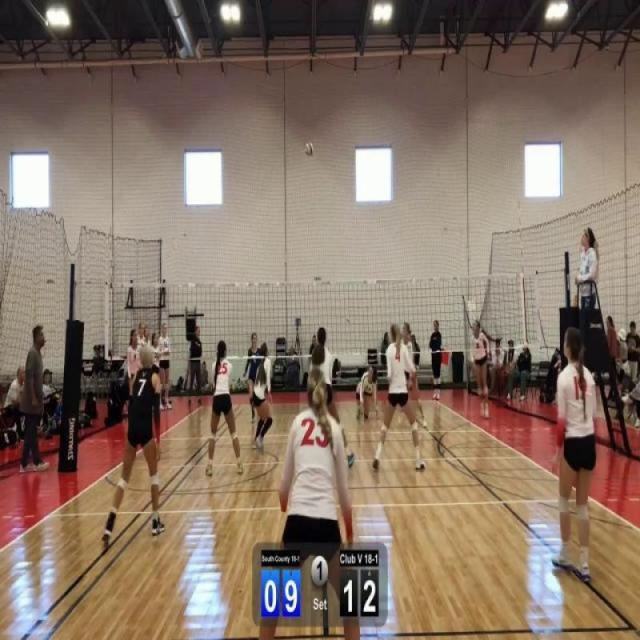volleyball: (303, 140, 315, 159)
